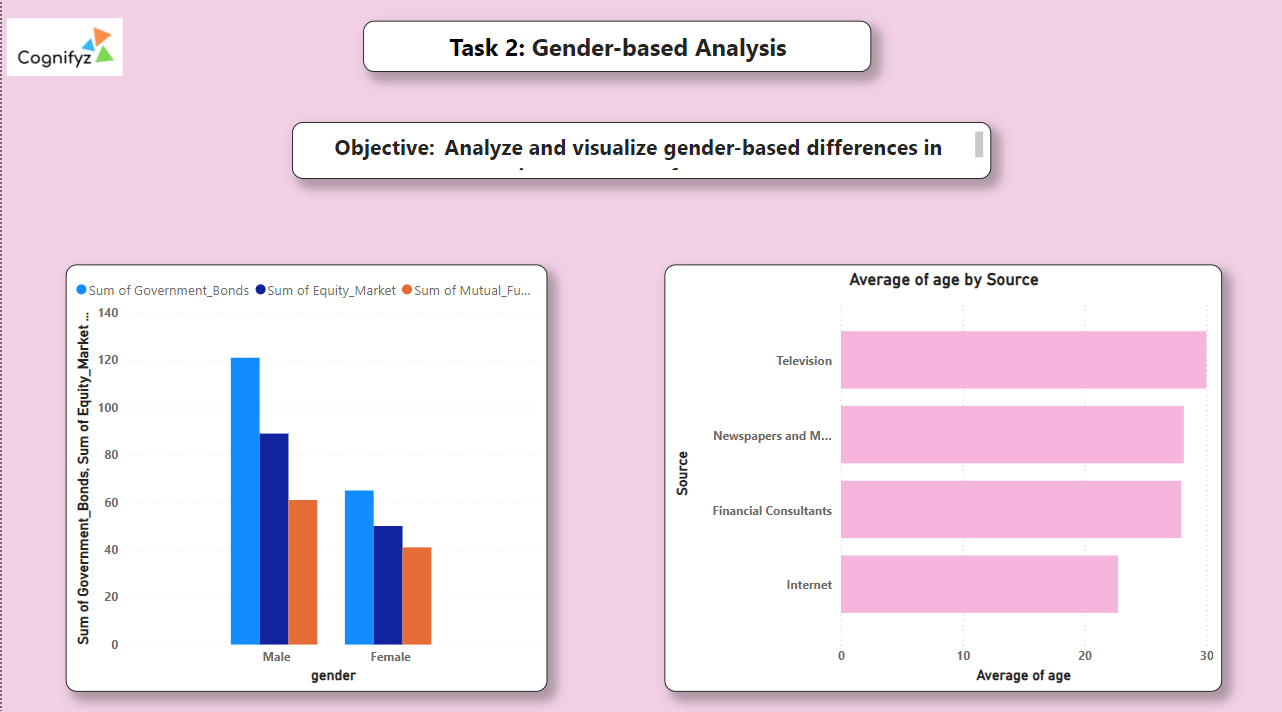

The page's visual inventory and layout, read from the dashboard file:
{"tool":"powerbi","page":{"name":"Task 2","canvas":[1280,720],"ordinal":1},"visuals":[{"type":"textbox","box":[360.9,24.3,507.7,51.6],"z":0},{"type":"textbox","box":[289.8,124.5,699.3,56.4],"z":1000},{"type":"clusteredColumnChart","fields":{"Y":["Sum(Data_set 2.Government_Bonds)","Sum(Data_set 2.Equity_Market)","Sum(Data_set 2.Mutual_Funds)"],"Category":["Data_set 2.gender"]},"box":[63.2,267.5,481.5,427],"z":5000},{"type":"barChart","fields":{"Category":["Data_set 2.Source"],"Y":["Avg(Data_set 2.age)"]},"box":[662.4,267.5,557.3,427],"z":6000}]}

Visuals, with their boxes in screenshot pixels (x1, y1, x2, y2), scaled from the page's 1280x720 canvas onto the 1282x712 screenshot:
textbox: crop(361, 24, 870, 75)
textbox: crop(290, 123, 991, 179)
clusteredColumnChart - Sum(Data_set 2.Government_Bonds) x Sum(Data_set 2.Equity_Market): crop(63, 265, 546, 687)
barChart - Data_set 2.Source x Avg(Data_set 2.age): crop(663, 265, 1222, 687)
